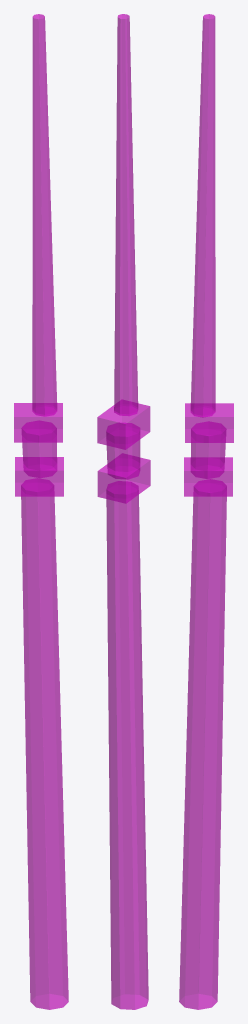
The model's file is SM_Veh_Ship_L_Mast_Front_01_Collision.fbx.
3 renders of one model, left to right at view 1: azimuth 90°, elevation 25°; view 2: azimuth 150°, elevation 25°; view 3: azimuth 270°, elevation 25°, orthographic.
Visible parts, largest first — view 1: SM_Veh_Ship_L_Mast_Front_01_Collision; view 2: SM_Veh_Ship_L_Mast_Front_01_Collision; view 3: SM_Veh_Ship_L_Mast_Front_01_Collision.
Part boxes in pixels (x1,y1,x2,y2): SM_Veh_Ship_L_Mast_Front_01_Collision: [14, 14, 68, 1009]; SM_Veh_Ship_L_Mast_Front_01_Collision: [97, 14, 150, 1009]; SM_Veh_Ship_L_Mast_Front_01_Collision: [179, 14, 233, 1009].
Size of the model in its own units: 100 by 2812 by 141.
